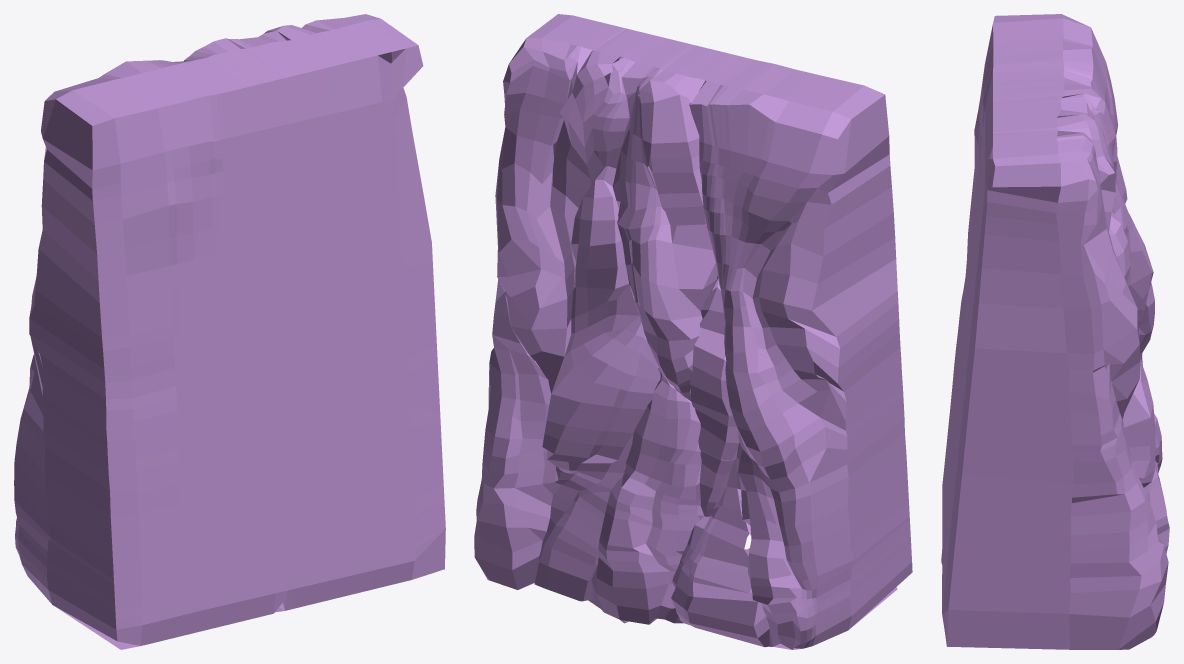
Rendered from Sherbrooke_walltest1_single.fbx.
The picture shows the model from 3 angles, left to right: view 1: azimuth 30°, elevation 25°; view 2: azimuth 150°, elevation 25°; view 3: azimuth 270°, elevation 25°; orthographic projection. The views are drawn at different scales.
Parts seen in each view (by area): view 1: Plane; view 2: Plane; view 3: Plane.
Boxes of the visible parts, box(x1,y1,x2,y2) form: Plane: box(14, 14, 445, 649); Plane: box(474, 14, 912, 649); Plane: box(941, 14, 1169, 649).
Size of the model in its own units: 1287 by 1866 by 783.
